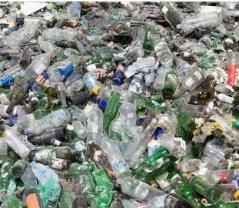glass: (130, 148, 176, 184), (168, 170, 200, 208), (186, 171, 222, 204), (0, 157, 26, 197), (102, 92, 122, 132), (87, 46, 111, 66)
